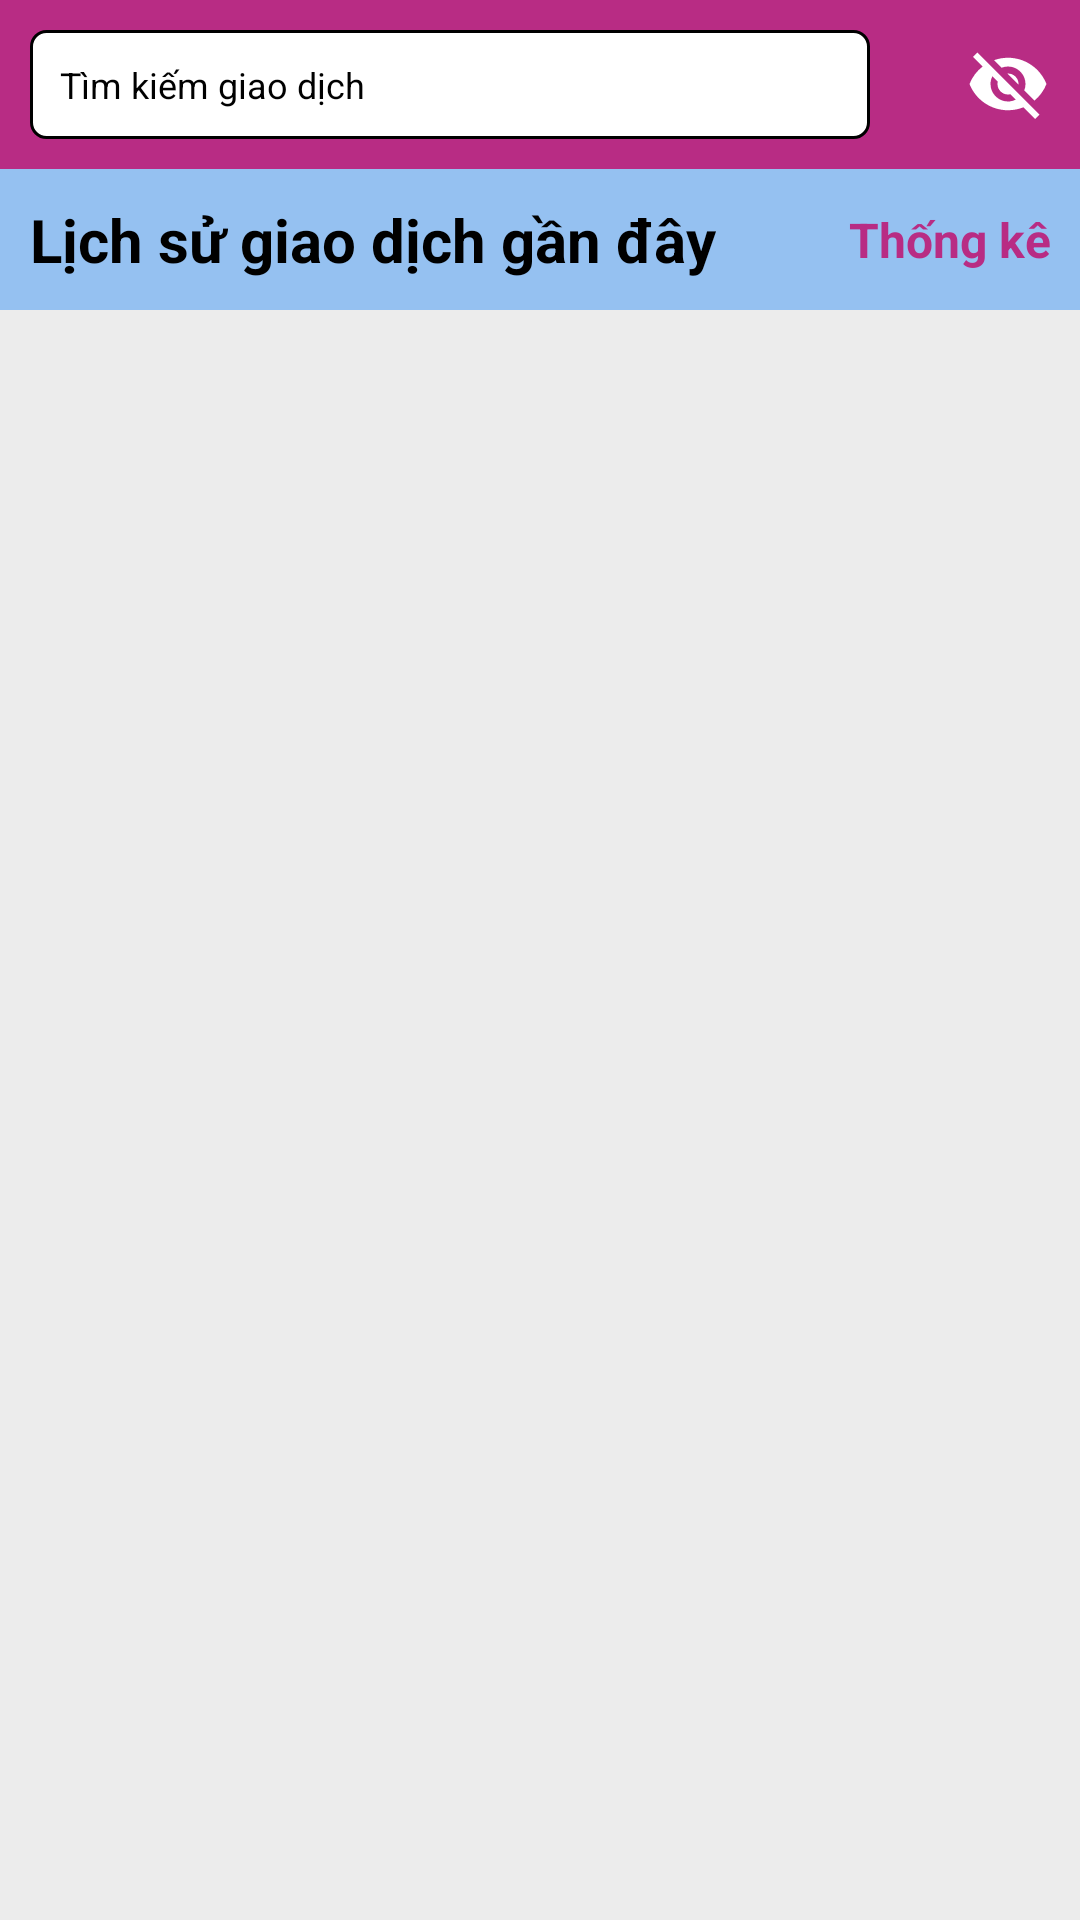

Where icons sit on this 1080w x 1920h app screen, as bbox=[x1, y1, x2, y2]:
visibility off: bbox=[969, 52, 1047, 119]
